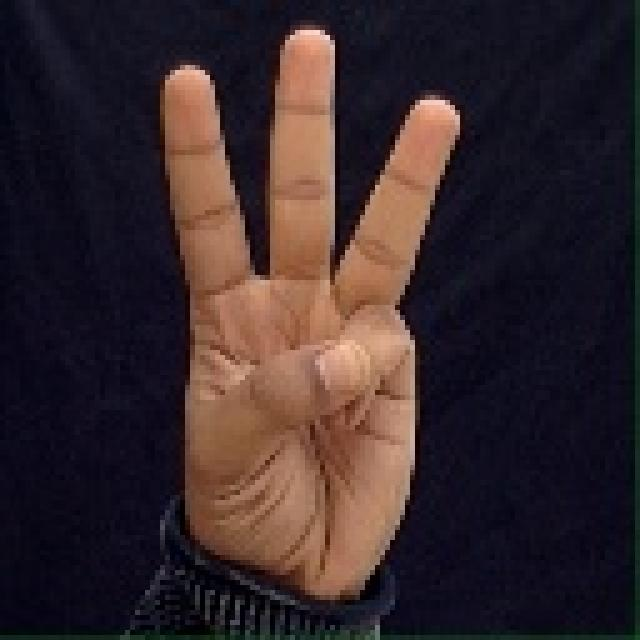Numeric-3: (162, 25, 460, 608)
